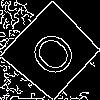O: (26, 26, 87, 88)
